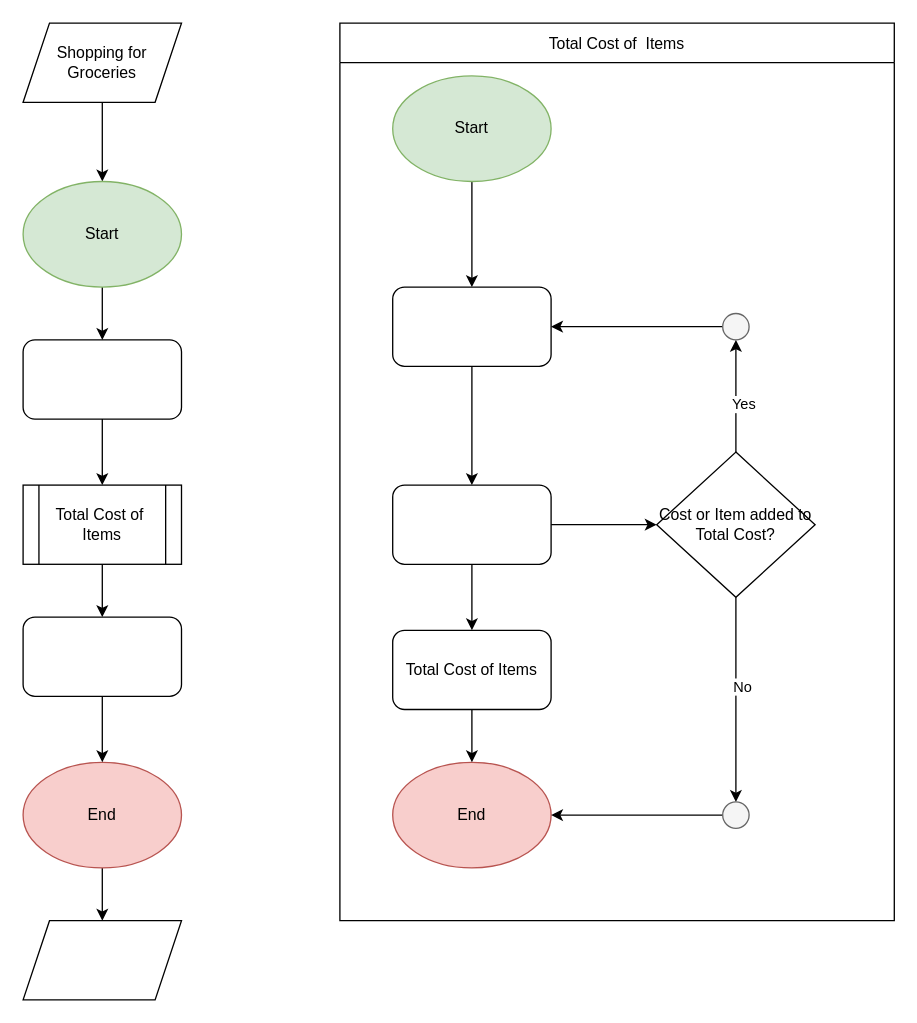
This 917x1023 diagram has some shape labels left out. Here are the shapes that lost their labels. From the top down, the box of each, then its label:
(391, 286, 551, 366): Pick Item from Shopping Cart
(22, 339, 182, 419): Shopping Cart
(391, 484, 551, 564): Cost or Item
(22, 616, 182, 696): Store Check-Out
(22, 919, 182, 1000): Exit Store
